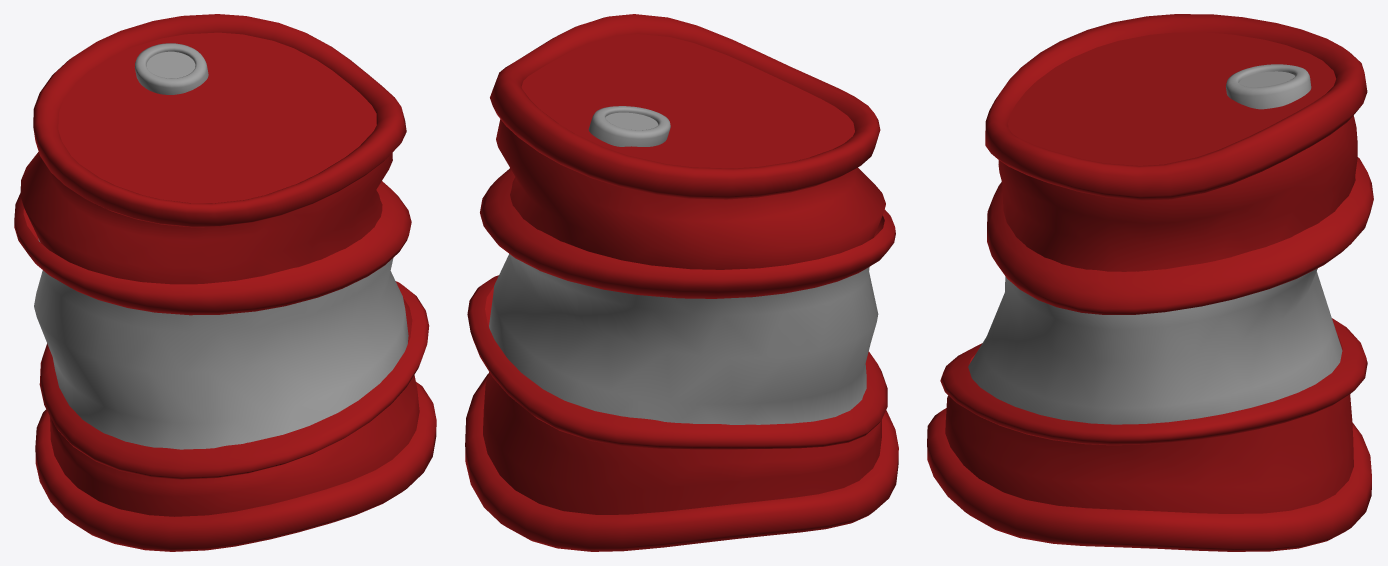
Rendered from barrel2.fbx.
3 renders of one model, left to right at view 1: azimuth 30°, elevation 25°; view 2: azimuth 150°, elevation 25°; view 3: azimuth 270°, elevation 25°, orthographic. The views are drawn at different scales.
Visible parts, largest first — view 1: Circle.004; view 2: Circle.004; view 3: Circle.004.
Part boxes in pixels (x1,y1,x2,y2): Circle.004: (14, 14, 436, 551); Circle.004: (465, 14, 898, 551); Circle.004: (927, 14, 1373, 551).
Bounding box in the file's own units: 1.56 × 1.57 × 1.48.
